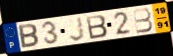2: (113, 11, 133, 37)
3: (41, 20, 60, 46)
B: (132, 7, 155, 35), (85, 14, 109, 40), (18, 23, 41, 50)
J: (68, 16, 86, 42)
